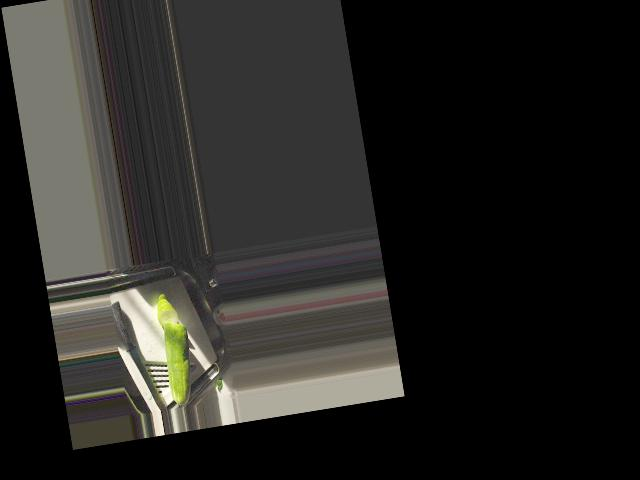cucumber: (159, 319, 198, 406)
